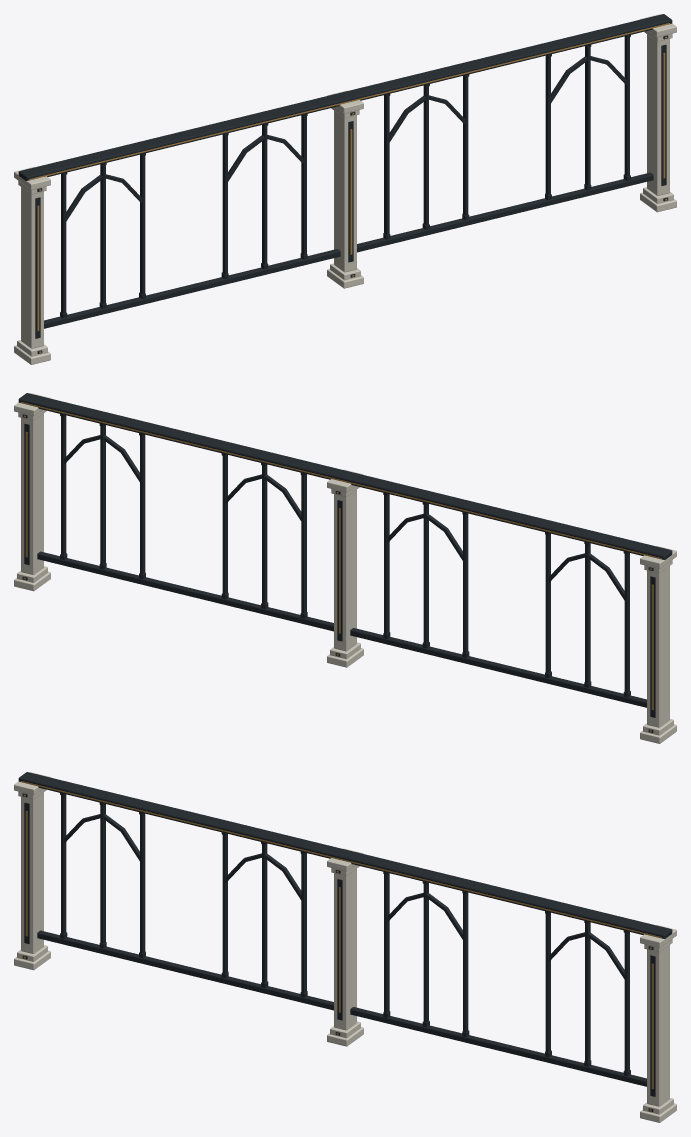
File: SM_Aurelion_KIT_Z09Guardrail.fbx
The picture shows the model from 3 angles, top to bottom: view 1: azimuth 30°, elevation 25°; view 2: azimuth 150°, elevation 25°; view 3: azimuth 330°, elevation 25°; orthographic projection.
Visible parts, largest first — view 1: SM_Aurelion_KIT_Z09Guardrail; view 2: SM_Aurelion_KIT_Z09Guardrail; view 3: SM_Aurelion_KIT_Z09Guardrail.
Part boxes in pixels (left/top/right/bottom): SM_Aurelion_KIT_Z09Guardrail: left=14, top=14, right=676, bottom=364; SM_Aurelion_KIT_Z09Guardrail: left=14, top=393, right=676, bottom=743; SM_Aurelion_KIT_Z09Guardrail: left=14, top=772, right=676, bottom=1122.
Bounding box in the file's own units: 475 × 22 × 130.
